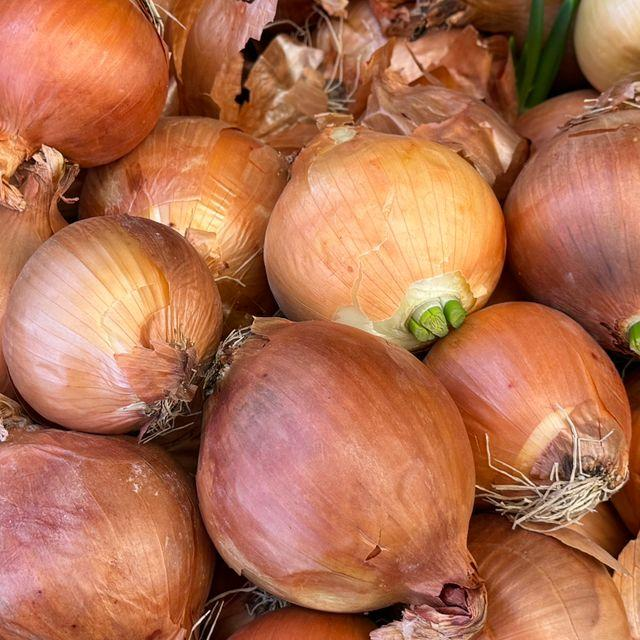onion: (248, 92, 526, 342), (0, 409, 266, 640), (0, 184, 226, 439), (496, 74, 640, 359), (0, 0, 196, 179)
